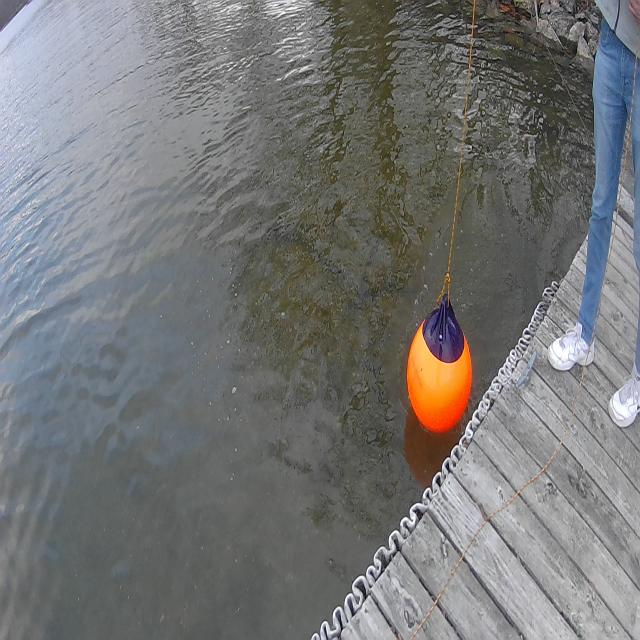Buoy: (402, 290, 476, 442)
